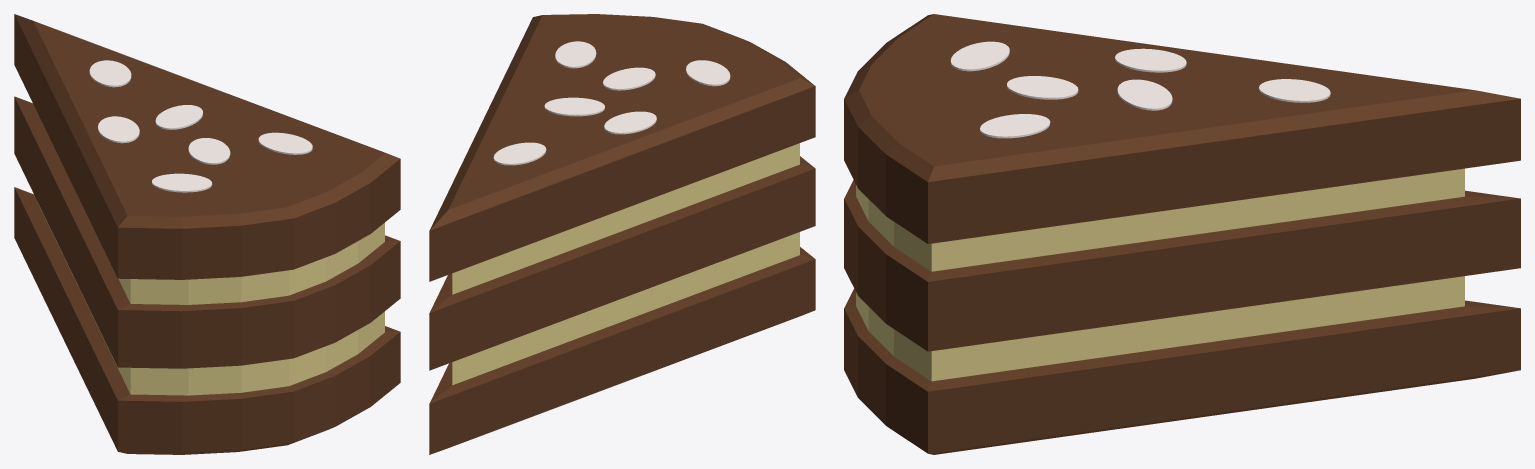
The model's file is cake.glb.
The picture shows the model from 3 angles, left to right: view 1: azimuth 30°, elevation 25°; view 2: azimuth 150°, elevation 25°; view 3: azimuth 270°, elevation 25°; orthographic projection. The views are drawn at different scales.
Visible parts, largest first — view 1: Circle.005; view 2: Circle.005; view 3: Circle.005.
Boxes of the visible parts, bbox=[...] form: Circle.005: bbox=[14, 14, 400, 454]; Circle.005: bbox=[429, 14, 815, 454]; Circle.005: bbox=[844, 14, 1520, 454].
Size of the model in its own units: 2.83 by 2.29 by 4.84.
